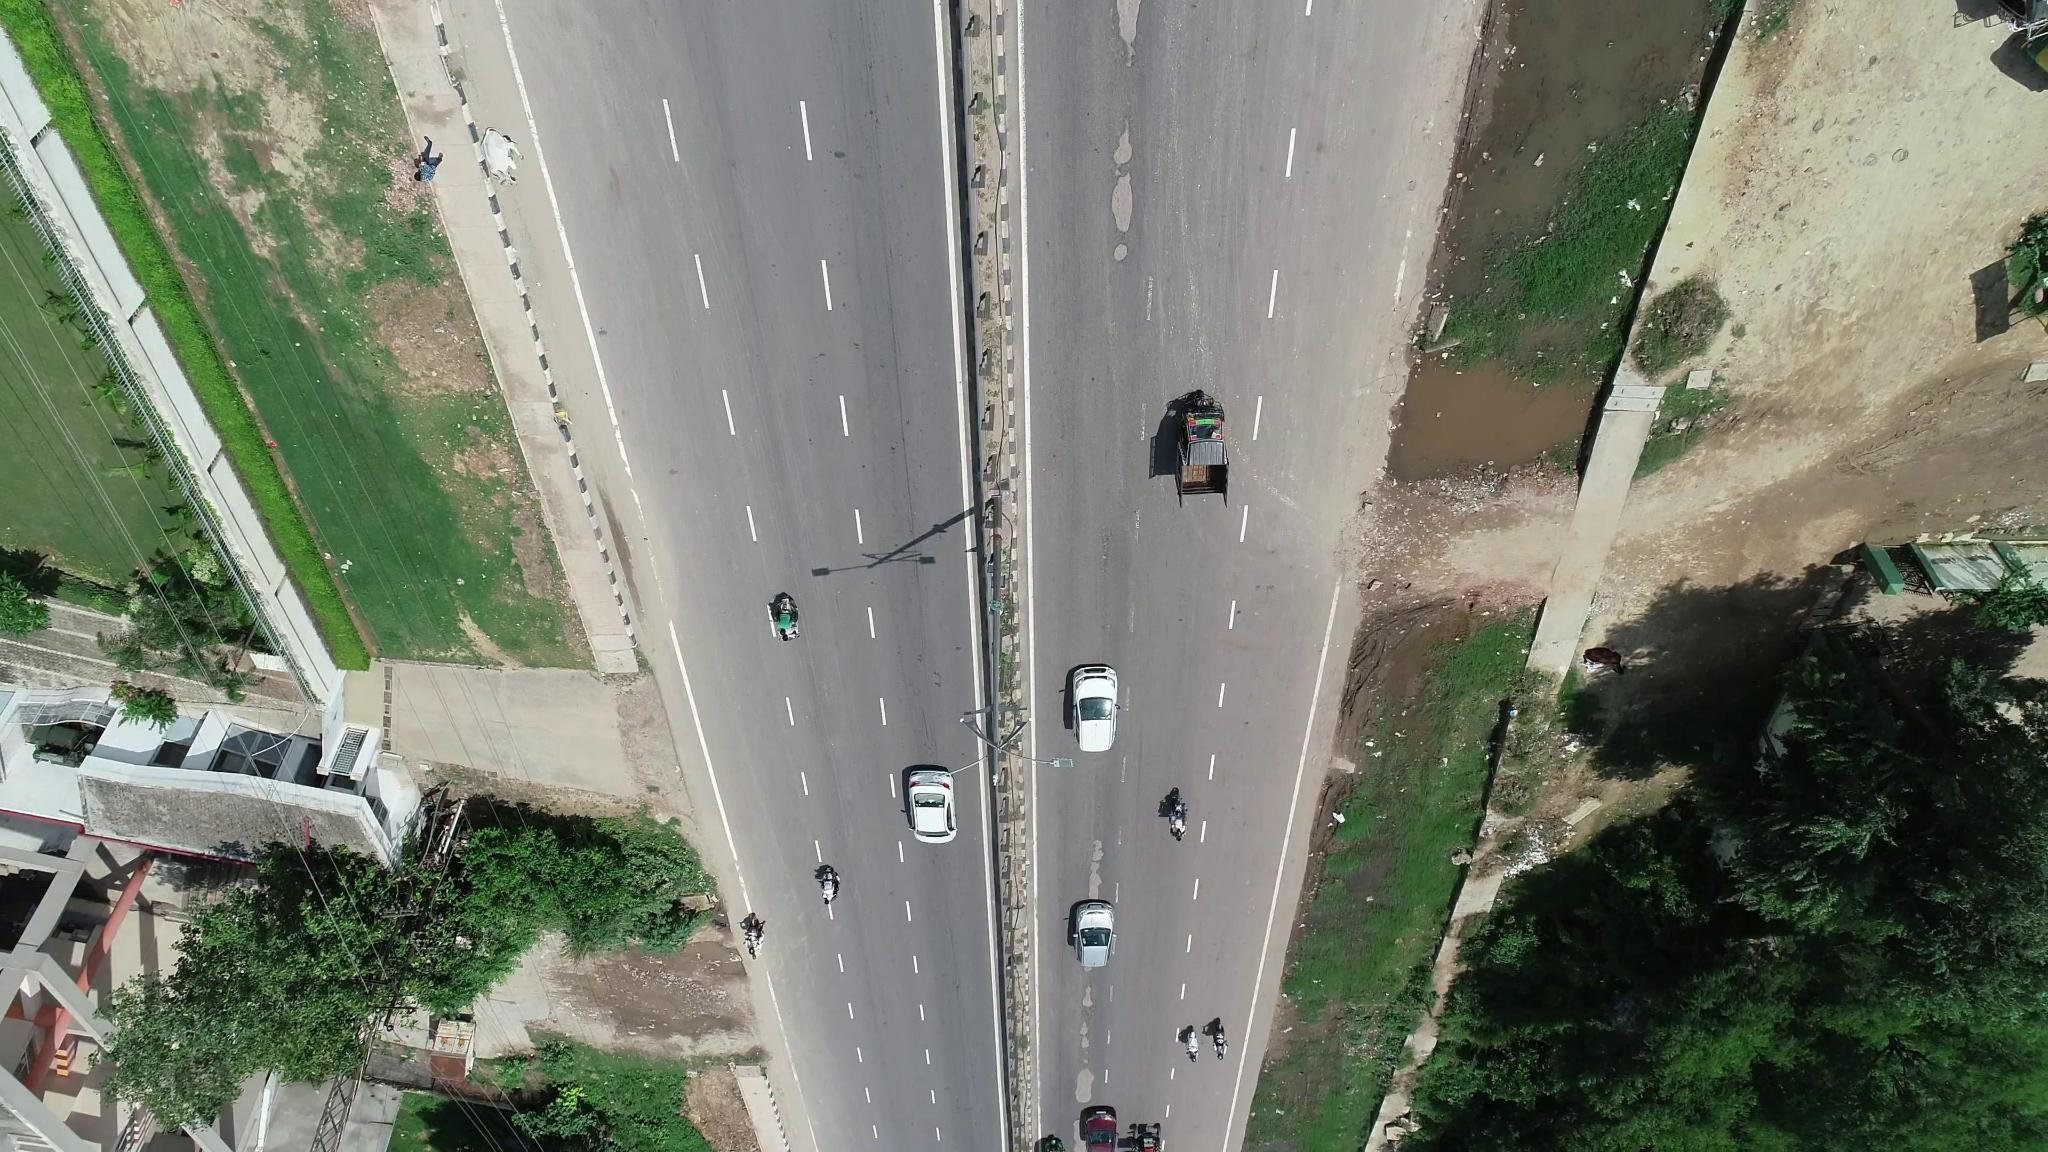Potholes: (1104, 108, 1145, 280), (1076, 989, 1100, 1106)
